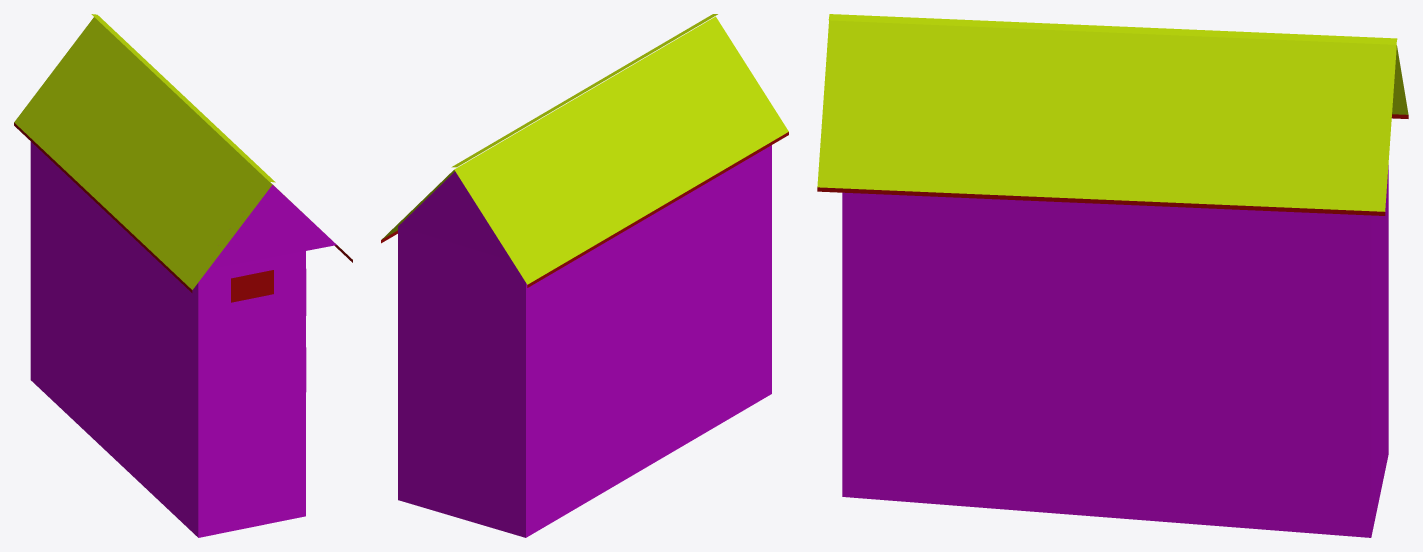
The model's file is bgj_354.glb.
3 renders of one model, left to right at view 1: azimuth 30°, elevation 25°; view 2: azimuth 150°, elevation 25°; view 3: azimuth 270°, elevation 25°, orthographic. The views are drawn at different scales.
Visible parts, largest first — view 1: bgj_354; view 2: bgj_354; view 3: bgj_354.
Boxes of the visible parts, left/top/right/bottom form: bgj_354: left=14, top=14, right=352, bottom=537; bgj_354: left=381, top=14, right=788, bottom=537; bgj_354: left=817, top=14, right=1408, bottom=537.
Size of the model in its own units: 7.35 by 12.9 by 15.14.
